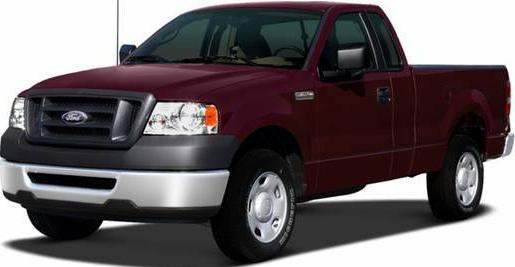front_view: (6, 81, 235, 207)
headlight: (127, 89, 231, 145)
side_glass: (316, 9, 403, 81)
